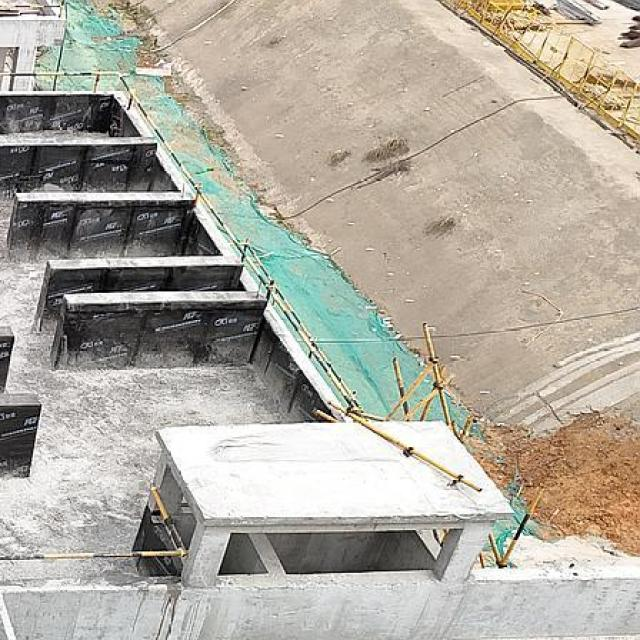edge_guardrail: (0, 70, 367, 416), (0, 483, 186, 560), (15, 4, 64, 19)
